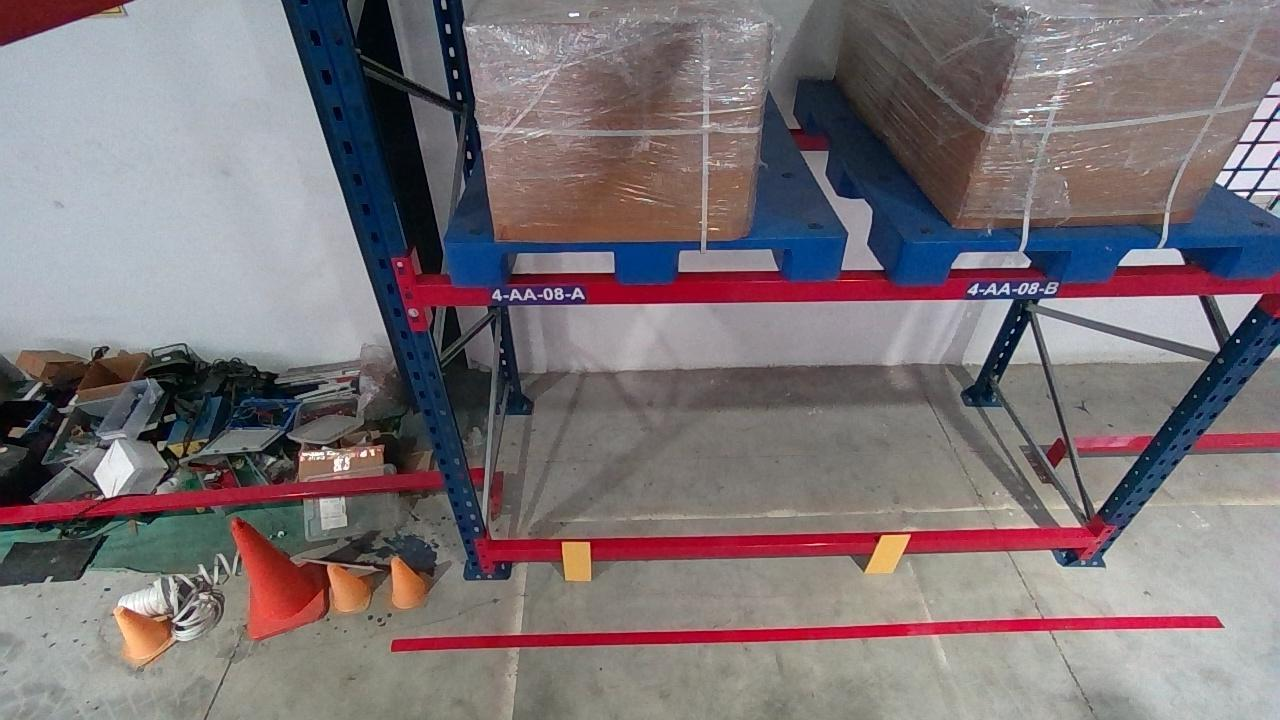h_rack: (413, 272, 1271, 303), (490, 533, 1096, 562)
orange_strip: (864, 533, 911, 573), (560, 541, 591, 581)
red_line: (390, 614, 1221, 652)
small_pallet: (895, 233, 1278, 281), (445, 239, 846, 280)
